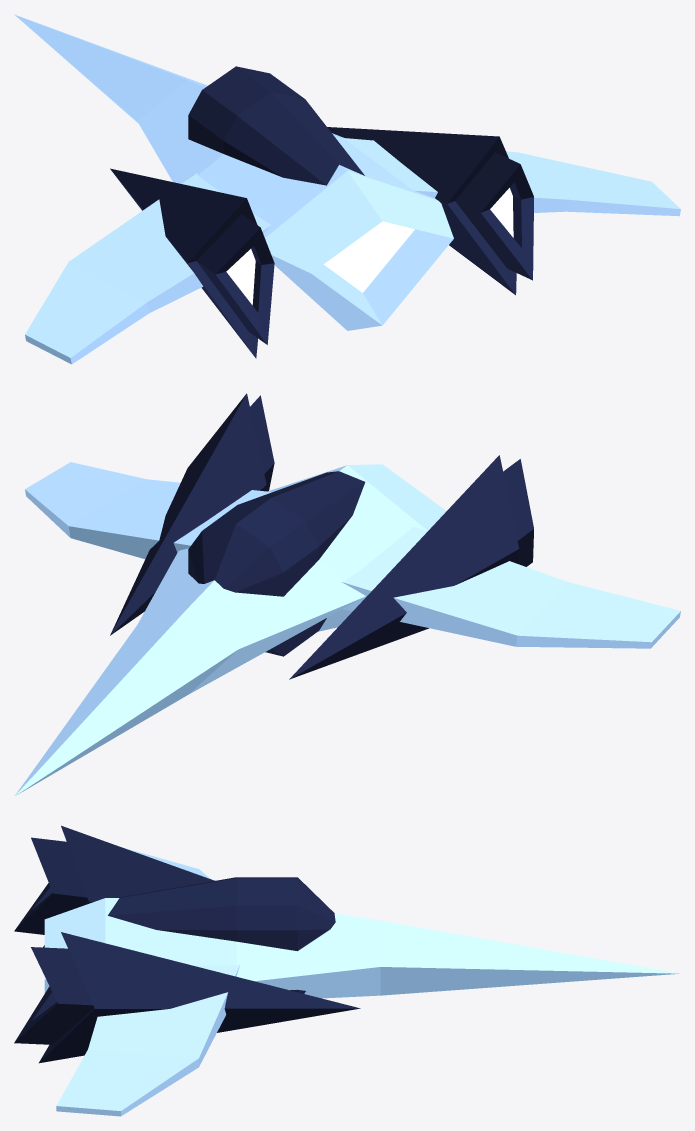
Rendered from pesawat.glb.
The picture shows the model from 3 angles, top to bottom: view 1: azimuth 30°, elevation 25°; view 2: azimuth 150°, elevation 25°; view 3: azimuth 270°, elevation 25°; orthographic projection. The views are drawn at different scales.
Parts seen in each view (by area): view 1: PlayerMesh; view 2: PlayerMesh; view 3: PlayerMesh.
Part boxes in pixels (x1,y1,x2,y2): PlayerMesh: (14, 14, 680, 364); PlayerMesh: (14, 393, 680, 796); PlayerMesh: (14, 825, 679, 1116).
Bounding box in the file's own units: 9.52 × 2.66 × 10.16.
